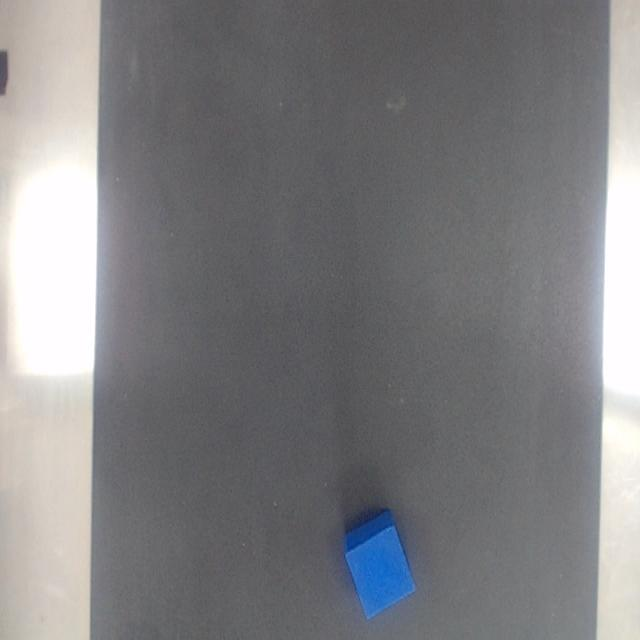Azul: (344, 509, 415, 619)
